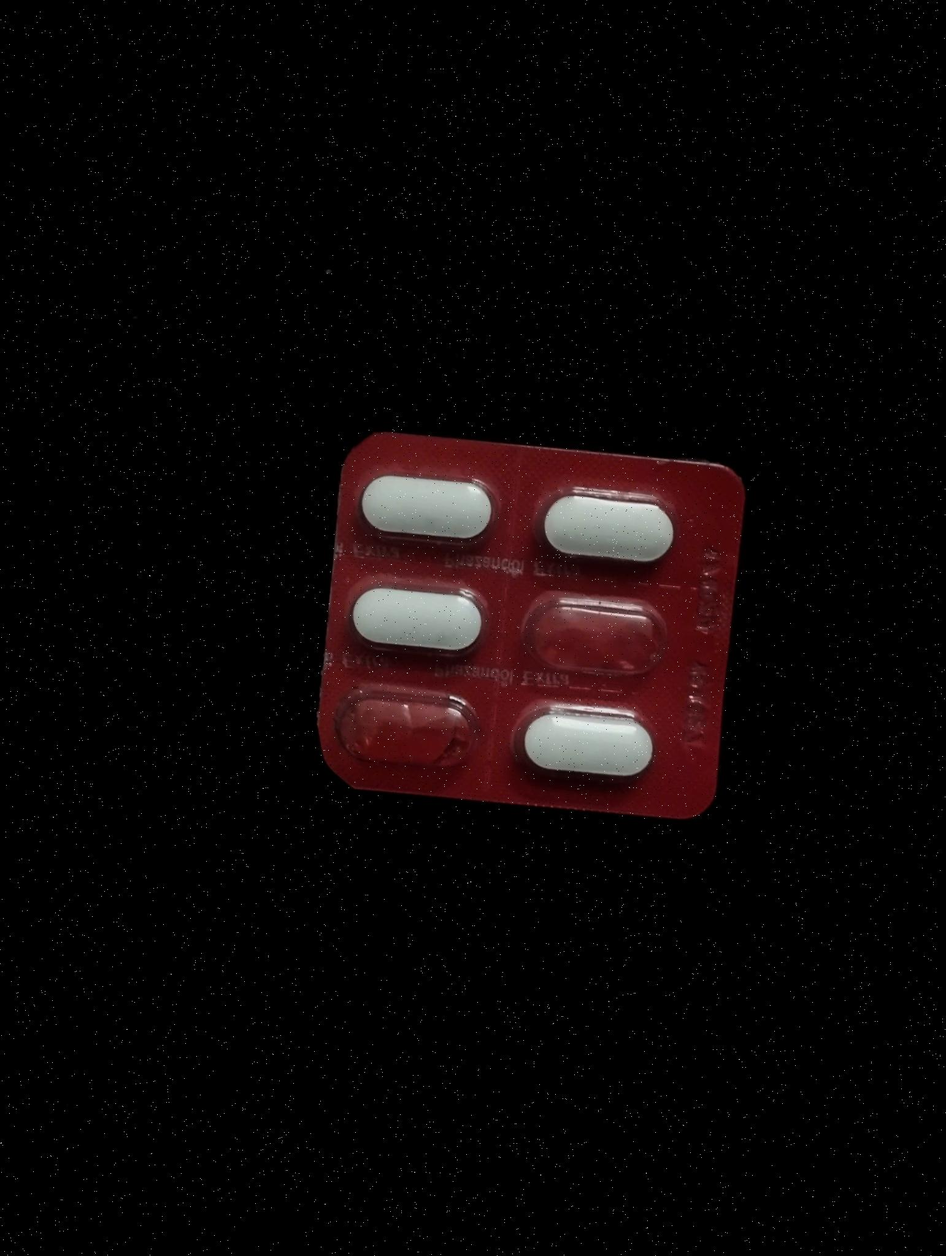Empty: (322, 668, 488, 783), (509, 584, 673, 689)
Full: (501, 697, 662, 789), (354, 462, 506, 554), (539, 484, 688, 576), (341, 574, 490, 661)
